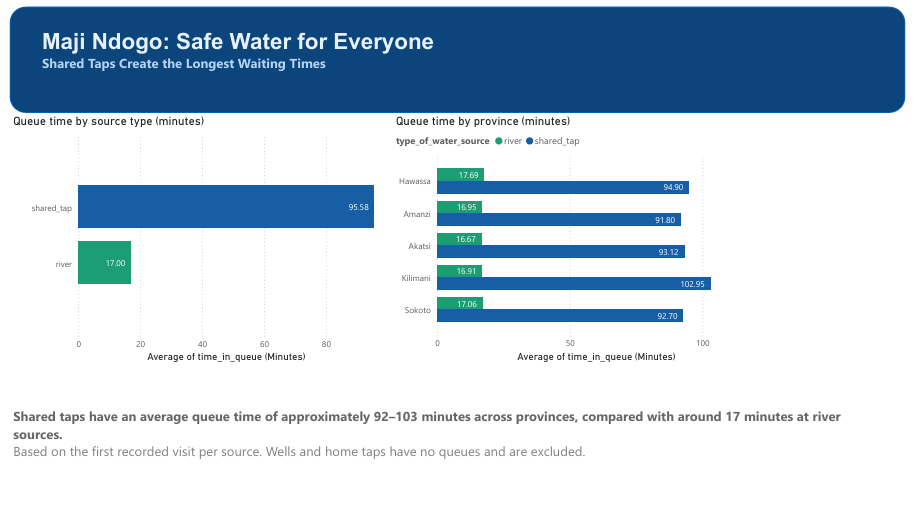

This screenshot's page, from the dashboard's own definition file:
{"tool":"powerbi","page":{"name":"Congestion","canvas":[1280,720],"ordinal":1},"visuals":[{"type":"shape","box":[0,0,1280.4,152.3],"z":0},{"type":"textbox","box":[40.8,26.3,1013.8,99.7],"z":1000},{"type":"clusteredBarChart","title":"Queue time by source type (minutes)","fields":{"Category":["md_water_services combined_analysis_table.type_of_water_source"],"Y":["Avg(md_water_services combined_analysis_table.time_in_queue)"]},"box":[0,152.6,533.4,361.1],"z":2000},{"type":"clusteredBarChart","title":"Queue time by province (minutes)","fields":{"Category":["md_water_services combined_analysis_table.province_name"],"Series":["md_water_services combined_analysis_table.type_of_water_source"],"Y":["Avg(md_water_services combined_analysis_table.time_in_queue)"]},"box":[547.4,152.6,533.4,361.1],"z":3000},{"type":"textbox","box":[0,569.5,1266.8,107.9],"z":5000}]}

Visuals, with their boxes in screenshot pixels (x1, y1, x2, y2), scaled from the page's 1280x720 canvas onto the 914x512 screenshot:
shape: (0, 0, 913, 108)
textbox: (29, 19, 753, 90)
"Queue time by source type (minutes)" clusteredBarChart: (0, 109, 381, 365)
"Queue time by province (minutes)" clusteredBarChart: (391, 109, 772, 365)
textbox: (0, 405, 905, 482)
